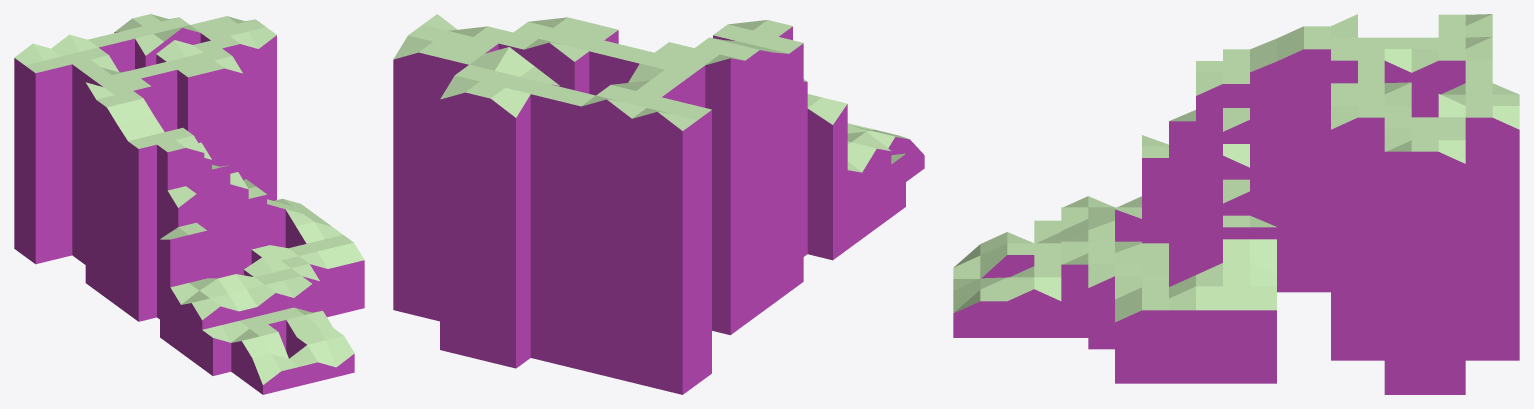
Rendered from lvl4-lastStand.glb.
The picture shows the model from 3 angles, left to right: view 1: azimuth 30°, elevation 25°; view 2: azimuth 150°, elevation 25°; view 3: azimuth 270°, elevation 25°; orthographic projection. The views are drawn at different scales.
Visible parts, largest first — view 1: Terrain, Tile, Tile.006, Tile.005, Tile.003, Tile.037, Tile.047, Tile.001, Tile.063, Tile.113, Tile.064, Tile.109 (+19 smaller); view 2: Terrain, Tile.095, Tile.104, Tile.079, Tile.045, Tile.101, Tile.085, Tile.098; view 3: Terrain, Tile.076, Tile.072, Tile.067, Tile.070, Tile.071, Tile.074, Tile.083, Tile.085, Tile.015, Tile.110, Tile.103 (+19 smaller).
Part boxes in pixels (box(x1,y1,x2,y2)): Terrain: box(14, 27, 364, 394); Tile: box(252, 354, 280, 384); Tile.006: box(326, 336, 354, 366); Tile.005: box(307, 340, 335, 366); Tile.003: box(260, 332, 288, 358); Tile.037: box(107, 103, 135, 124); Tile.047: box(228, 289, 256, 311); Tile.001: box(242, 336, 270, 357); Tile.063: box(336, 242, 364, 264); Tile.113: box(317, 247, 345, 268); Tile.064: box(296, 222, 324, 243); Tile.109: box(125, 98, 153, 119); Terrain: box(393, 26, 924, 394); Tile.095: box(495, 47, 534, 76); Tile.104: box(491, 87, 530, 117); Tile.079: box(808, 97, 846, 124); Tile.045: box(847, 142, 876, 171); Tile.101: box(440, 75, 479, 98); Tile.085: box(470, 47, 508, 70); Tile.098: box(394, 35, 432, 58); Terrain: box(953, 49, 1519, 394); Tile.076: box(1250, 239, 1276, 274); Tile.072: box(1223, 262, 1249, 286); Tile.067: box(1223, 286, 1249, 309); Tile.070: box(1196, 286, 1222, 309); Tile.071: box(1223, 239, 1249, 262); Tile.074: box(1250, 286, 1276, 309); Tile.083: box(1384, 128, 1411, 151); Tile.085: box(1438, 94, 1465, 117); Tile.015: box(1034, 277, 1061, 300); Tile.110: box(1061, 241, 1088, 264); Tile.103: box(1465, 37, 1492, 60).
Bounding box in the file's own units: 12 × 10.46 × 21.
